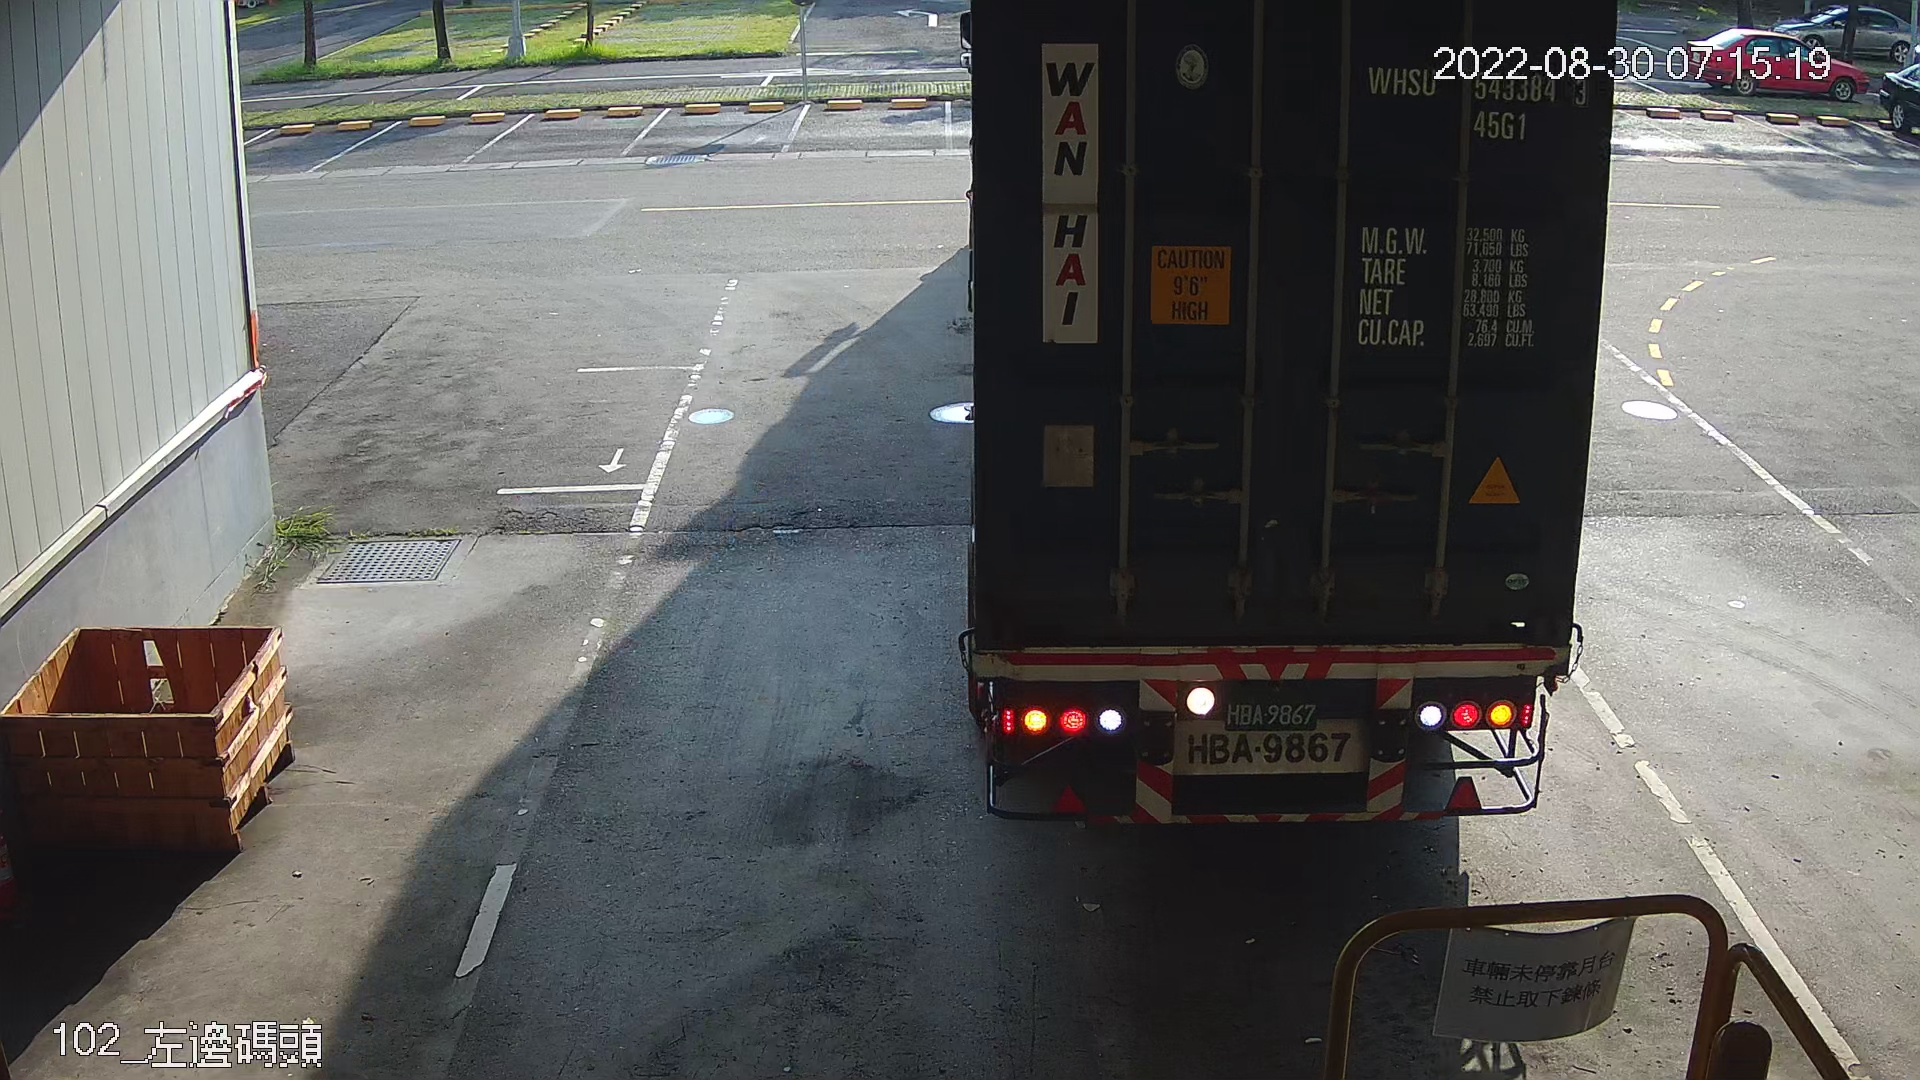container: (1360, 47, 1598, 154)
